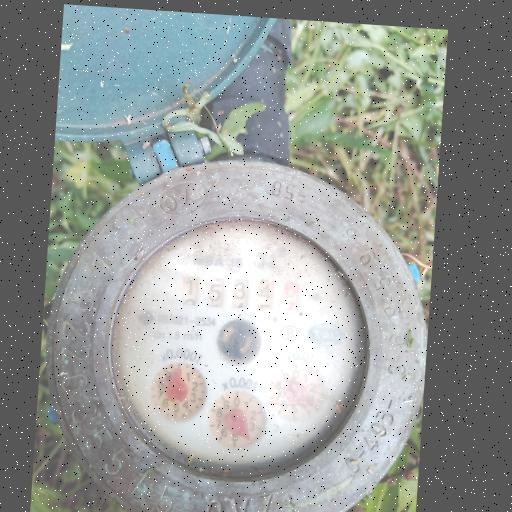1: (180, 276, 199, 306)
3: (232, 279, 250, 309)
4: (255, 279, 274, 310)
5: (206, 277, 226, 308)
6: (280, 281, 299, 312)
border_water_meter_number: (176, 272, 303, 316)
